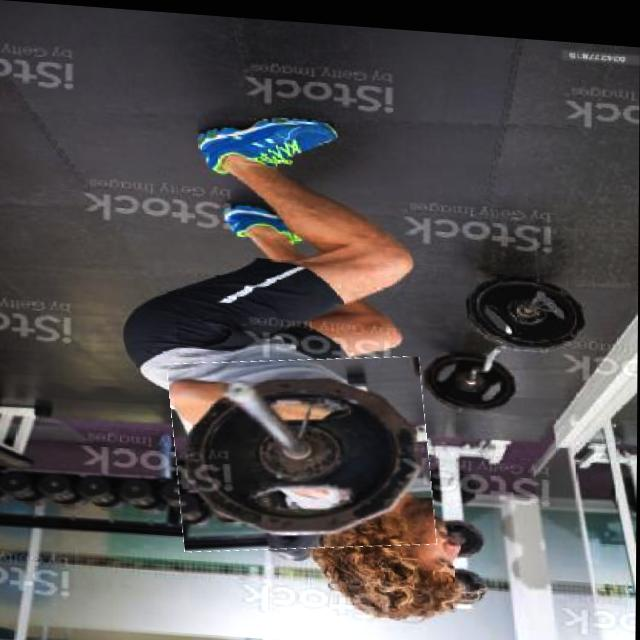barbell: (173, 343, 435, 558)
